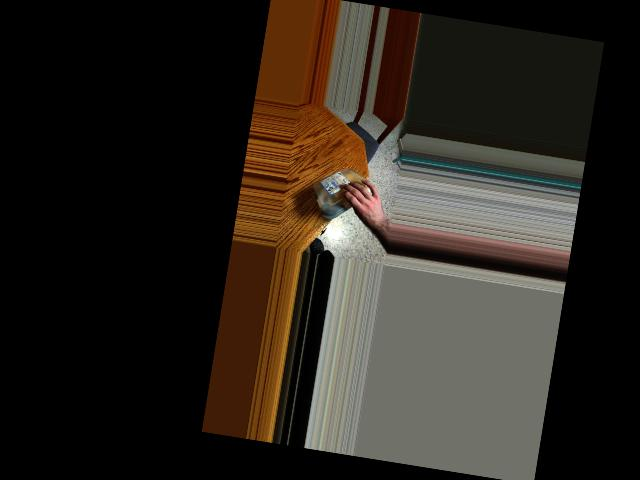cheese: (307, 161, 381, 223)
